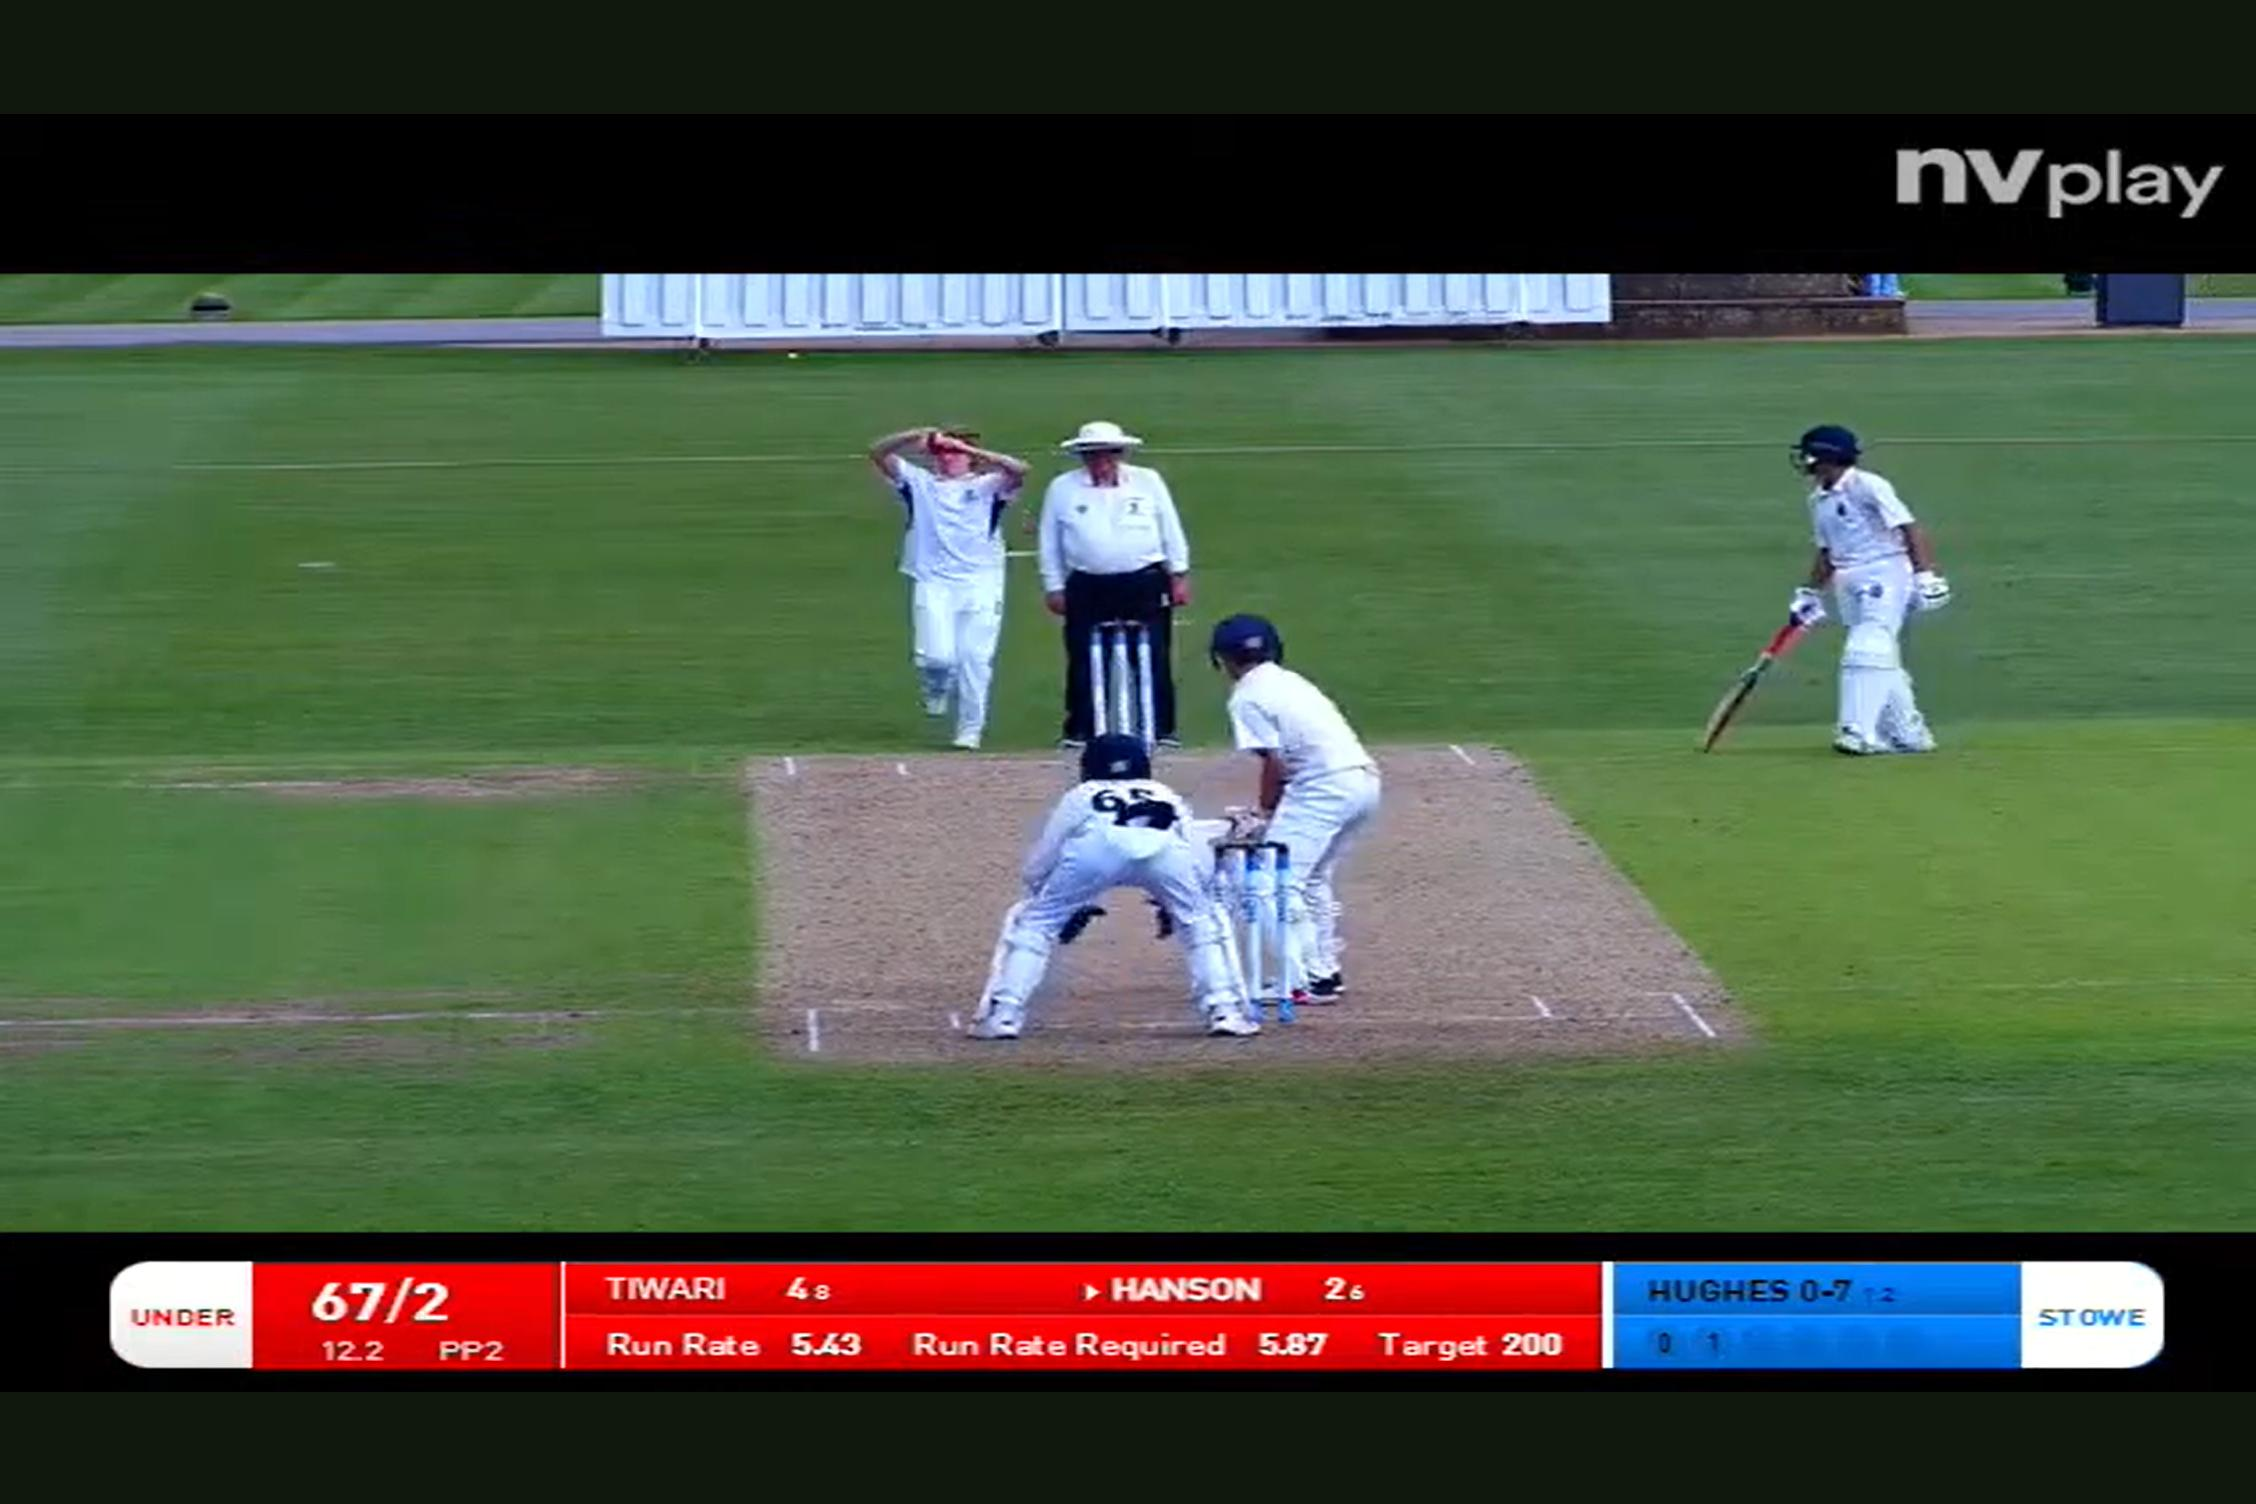batsman: (1183, 552, 1397, 1012)
bowler running in: (836, 401, 1021, 755)
non striker: (1670, 398, 1959, 797)
stumps: (1079, 593, 1167, 755)
